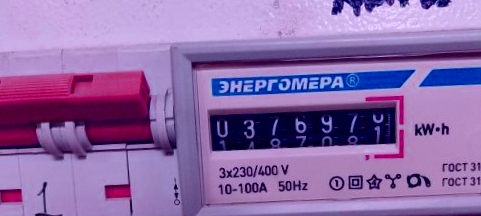0: (213, 115, 228, 138)
1: (370, 123, 383, 144)
3: (241, 117, 256, 139)
6: (291, 110, 308, 134)
7: (266, 113, 282, 138), (344, 110, 360, 134)
9: (318, 111, 333, 133)
screen: (197, 84, 411, 173)
